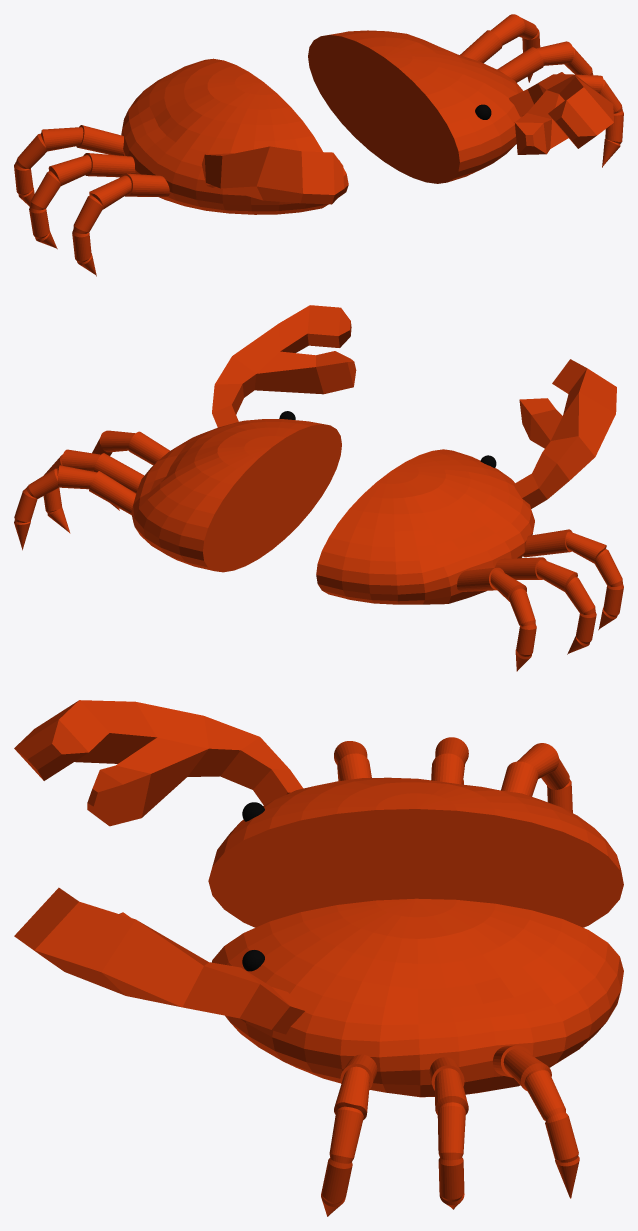
The model's file is CrabSplit.obj.
3 renders of one model, top to bottom at view 1: azimuth 30°, elevation 25°; view 2: azimuth 150°, elevation 25°; view 3: azimuth 270°, elevation 25°, orthographic. The views are drawn at different scales.
Parts seen in each view (by area): view 1: LeftCrab.001, RightCrab; view 2: RightCrab, LeftCrab.001; view 3: LeftCrab.001, RightCrab.
Part boxes in pixels (x1=…): LeftCrab.001: x1=308, y1=14, x2=623, y2=183; RightCrab: x1=14, y1=58, x2=348, y2=276; RightCrab: x1=316, y1=359, x2=623, y2=671; LeftCrab.001: x1=14, y1=305, x2=356, y2=572; LeftCrab.001: x1=14, y1=887, x2=623, y2=1216; RightCrab: x1=14, y1=700, x2=623, y2=927.
Size of the model in its own units: 8.38 by 2.5 by 5.57.
